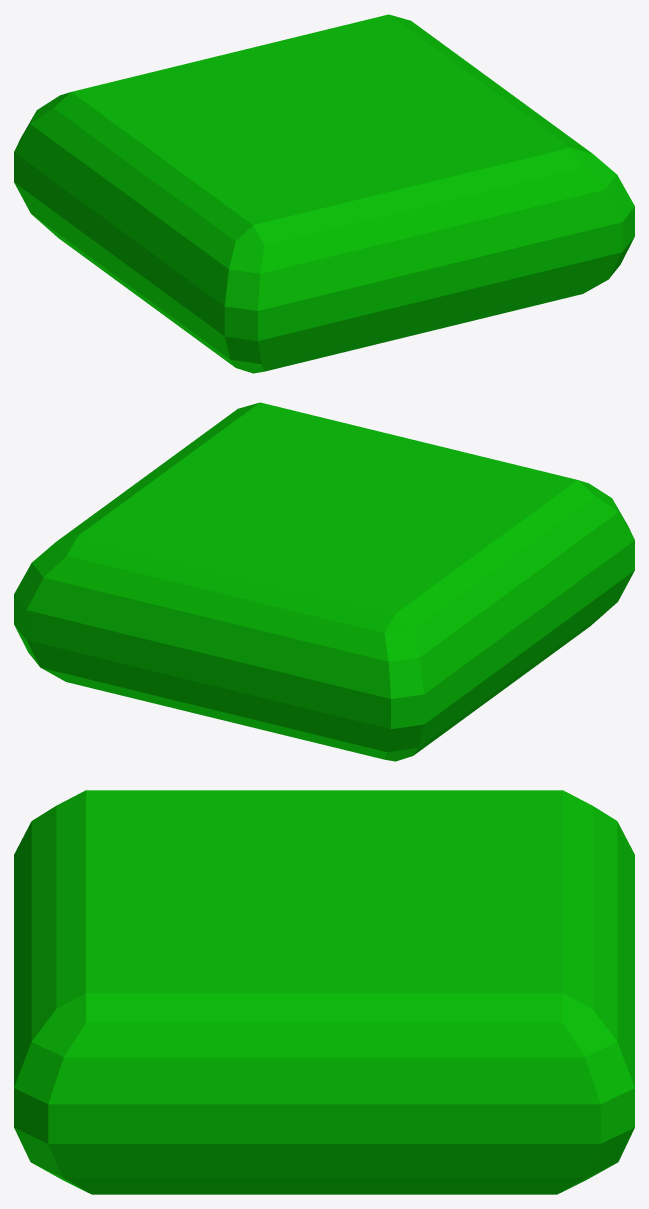
File: Emerald.fbx
3 renders of one model, top to bottom at view 1: azimuth 30°, elevation 25°; view 2: azimuth 150°, elevation 25°; view 3: azimuth 270°, elevation 25°, orthographic. The views are drawn at different scales.
Visible parts, largest first — view 1: Cube; view 2: Cube; view 3: Cube.
Part boxes in pixels (x1,y1,x2,y2): Cube: [14, 14, 634, 373]; Cube: [14, 402, 634, 761]; Cube: [14, 790, 634, 1194].
Size of the model in its own units: 96.66 by 33.93 by 96.66.
